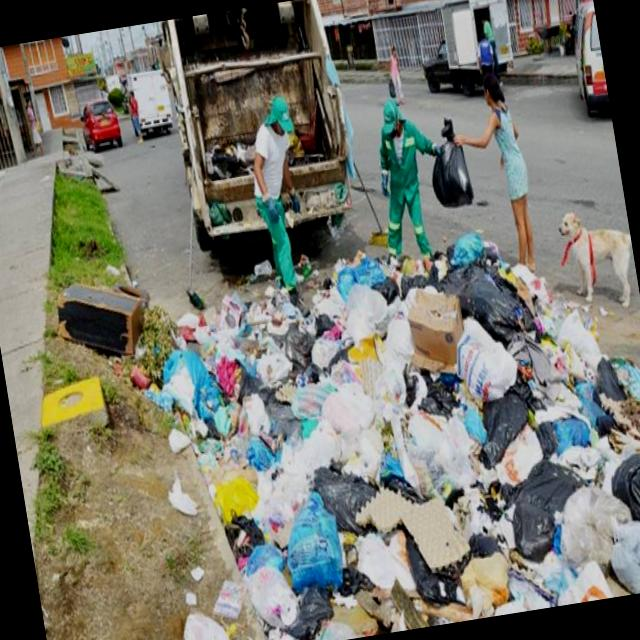garbage: (130, 226, 640, 640)
